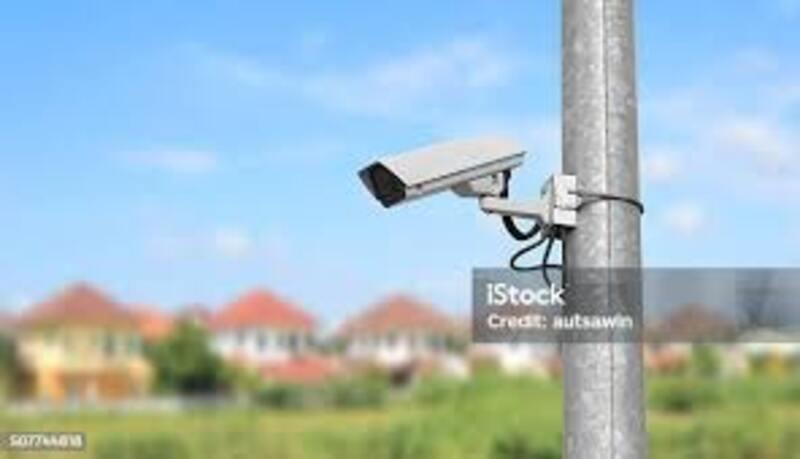box: (344, 165, 522, 239)
